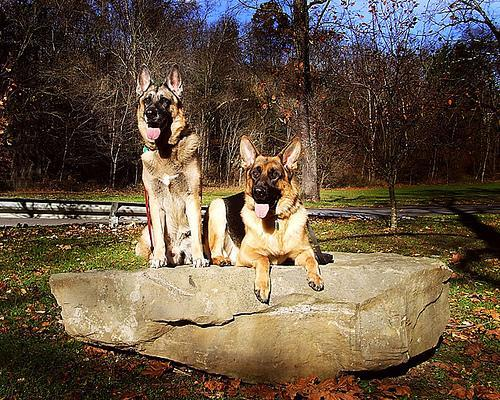German_shepherd: (203, 133, 327, 306), (135, 64, 205, 269)
